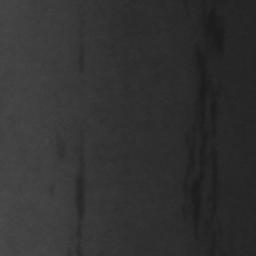Inclusion: (74, 174, 87, 220)
